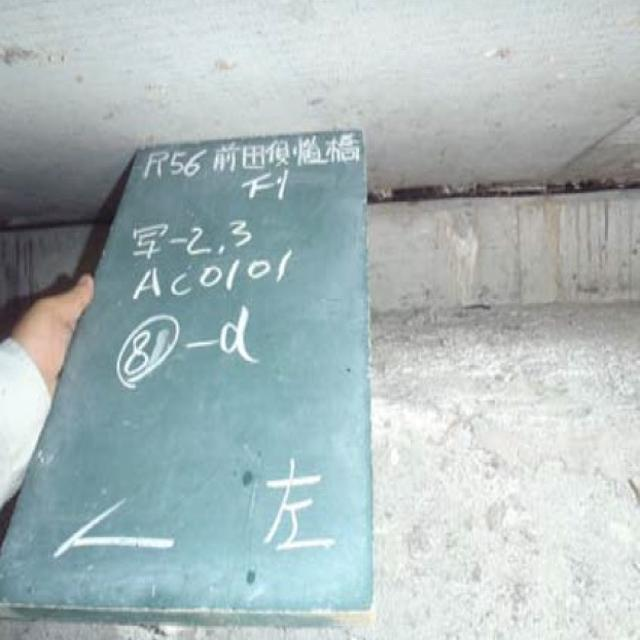freelime: (450, 199, 496, 310)
